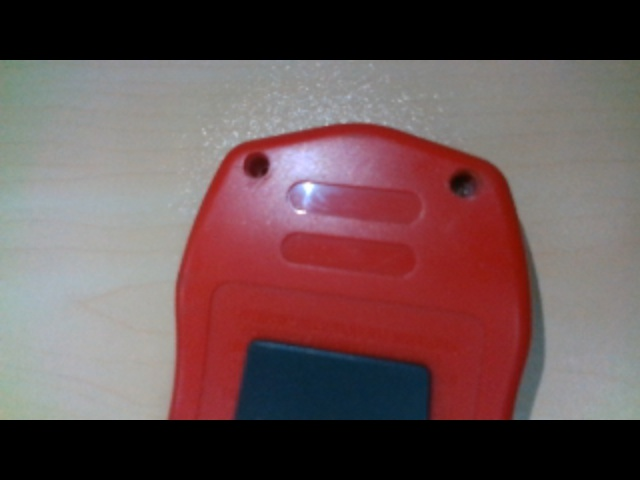Screw holes: (448, 167, 485, 201), (240, 147, 275, 181)
